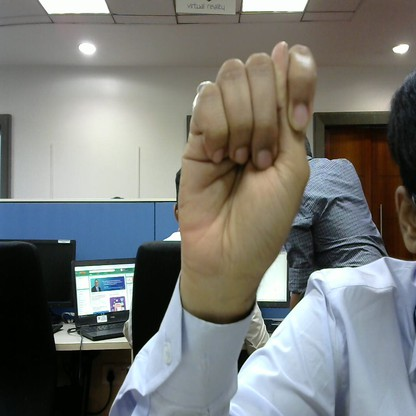t: (177, 41, 317, 278)
